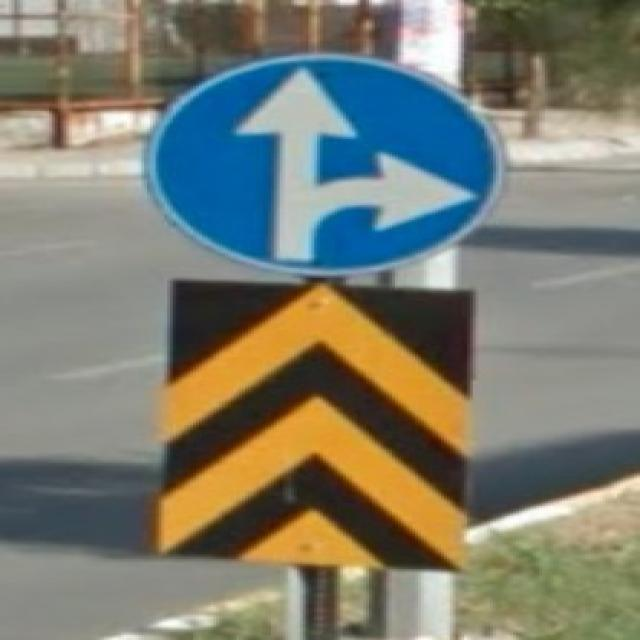Straight or Right: (148, 57, 497, 276)
